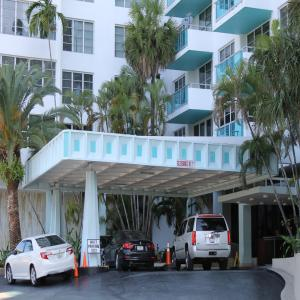Vehicle-registration-plate: (58, 255, 64, 261), (138, 247, 144, 253), (210, 239, 216, 244)
